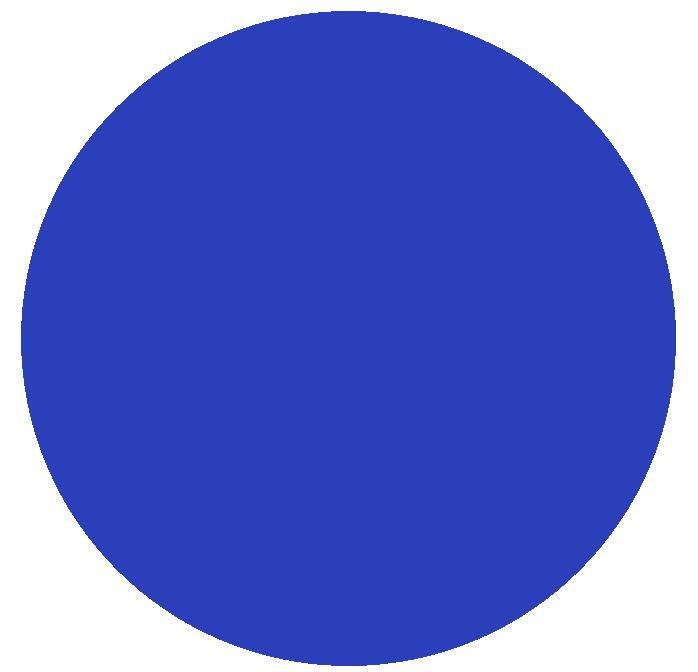blue_circle: (10, 2, 698, 672)
